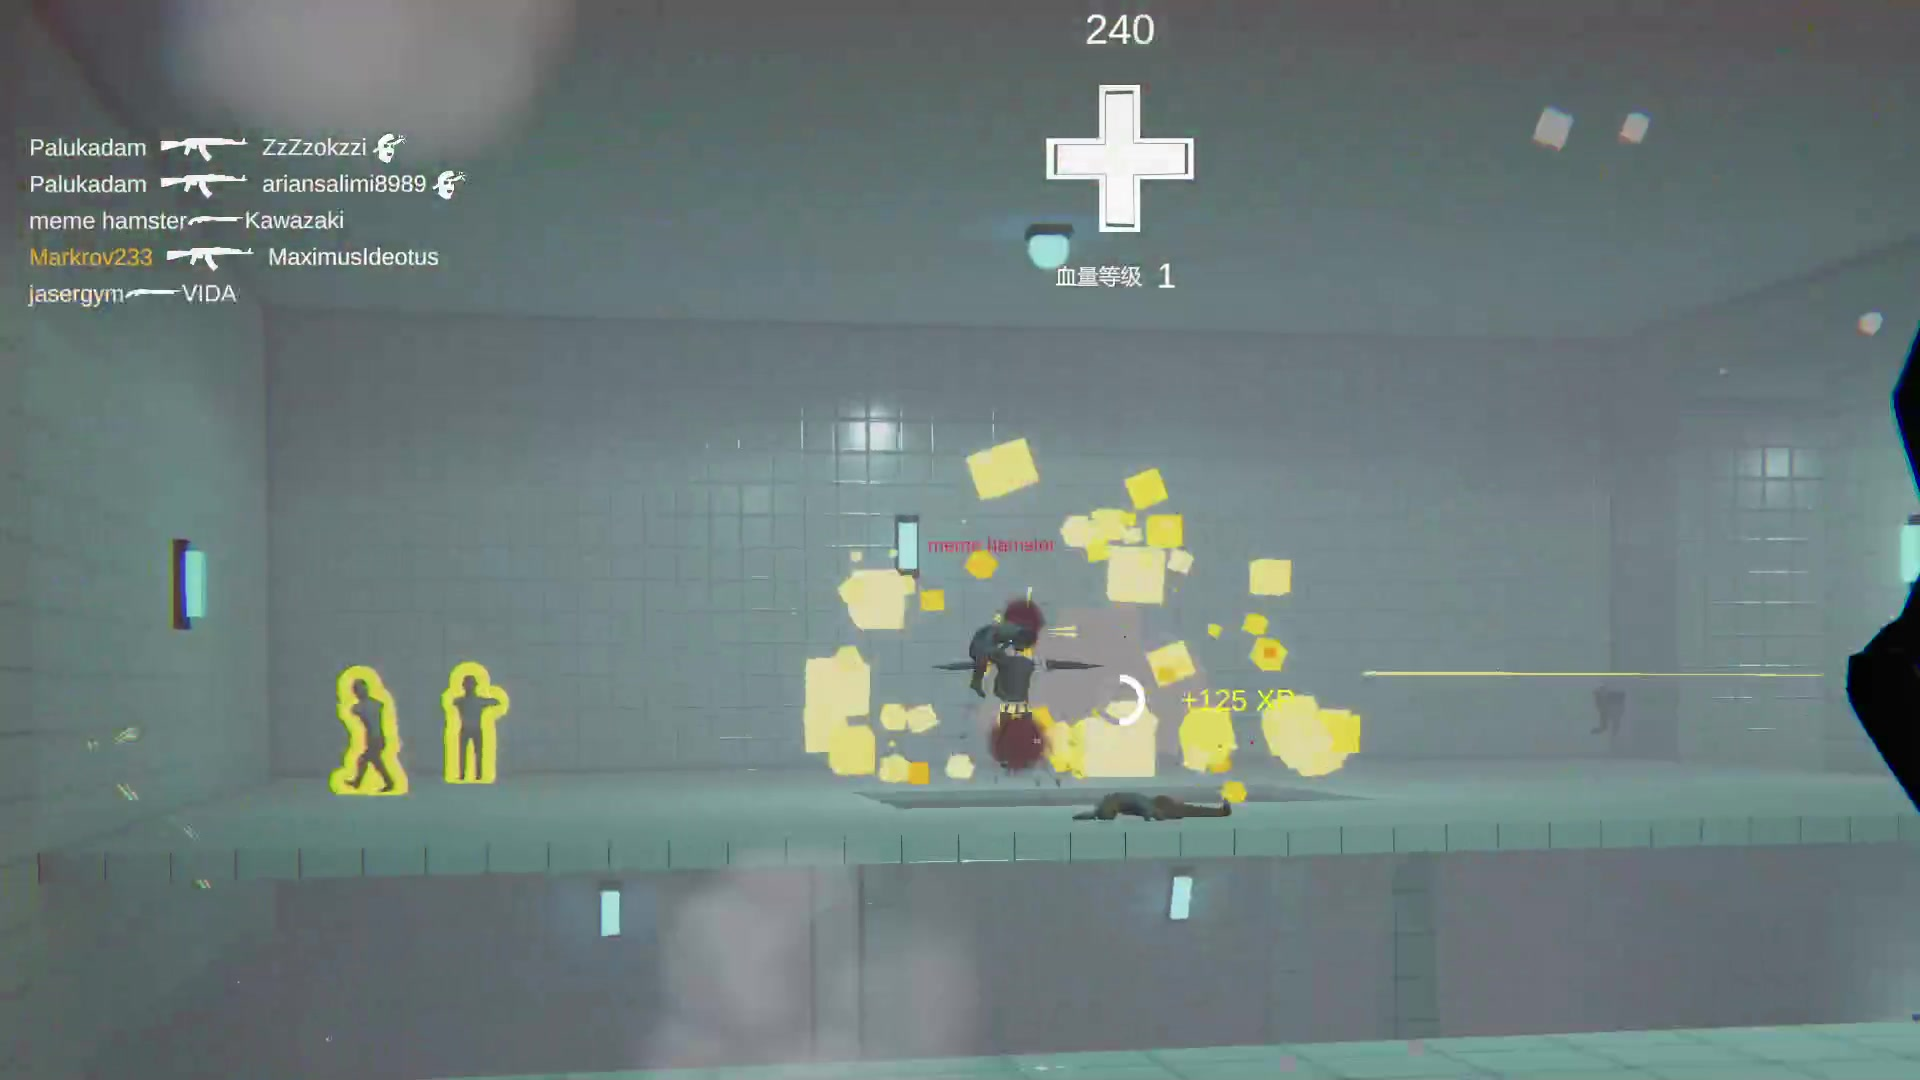human: (331, 659, 404, 796), (974, 595, 1040, 715), (448, 658, 500, 786)
